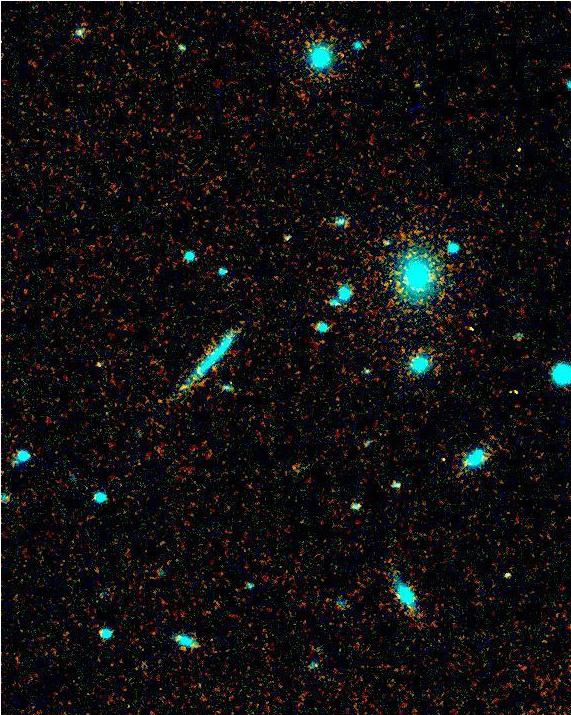star: (204, 353, 234, 383)
